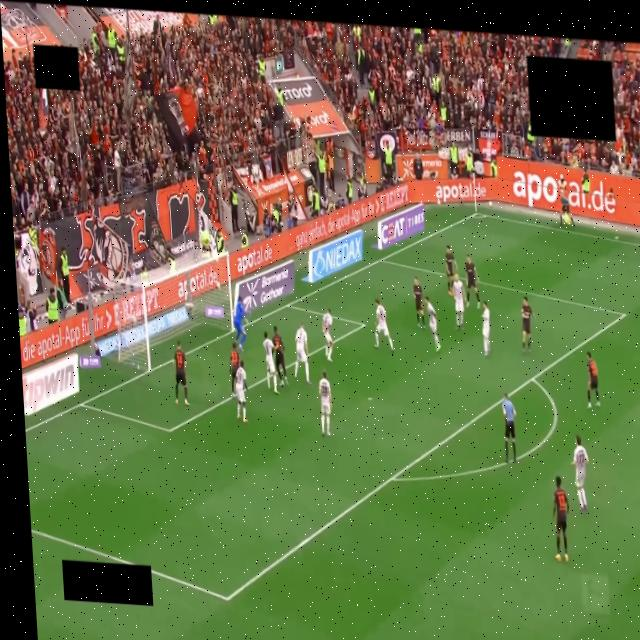player: (553, 475, 569, 561), (572, 436, 588, 511), (295, 324, 311, 385), (375, 299, 393, 352), (272, 326, 288, 385), (263, 332, 278, 394), (174, 342, 188, 406), (319, 371, 332, 436), (521, 297, 535, 353), (426, 297, 440, 352), (466, 254, 480, 308), (235, 360, 247, 422), (587, 352, 600, 408), (452, 274, 465, 329), (233, 297, 246, 350), (413, 278, 425, 329), (229, 342, 240, 397), (322, 309, 332, 362), (445, 245, 455, 295), (482, 302, 490, 356)
referee: (502, 393, 516, 463)
